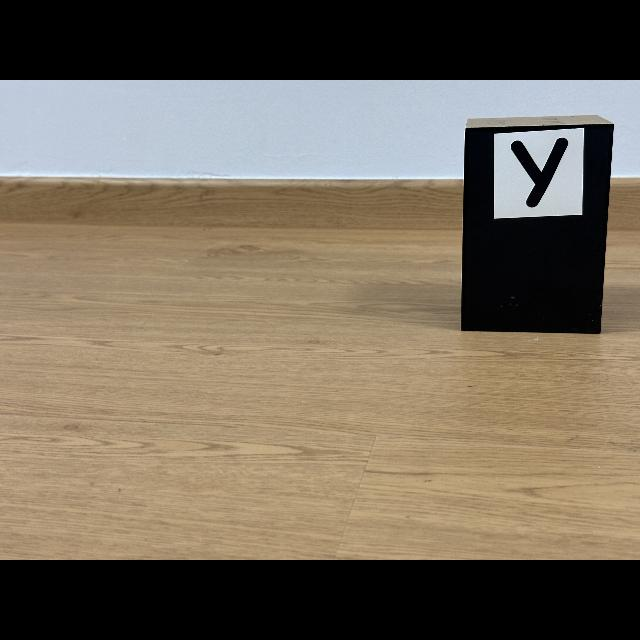Y: (511, 138, 568, 208)
